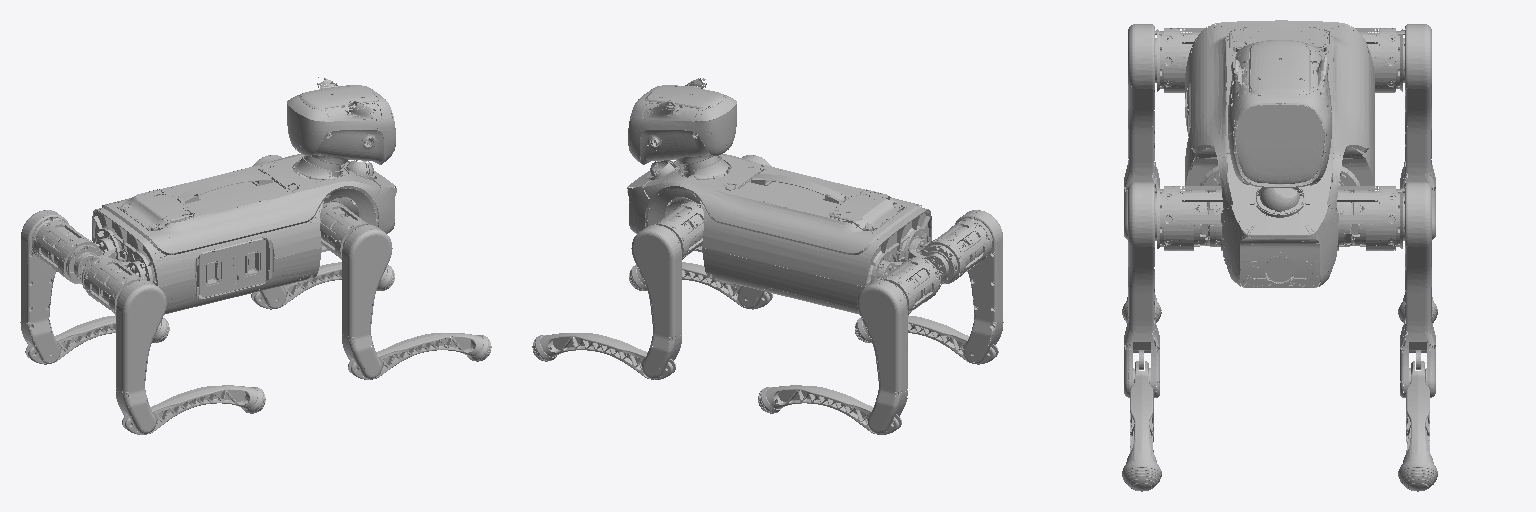
The robot description file, URDF, robot "magicdog_p3_v1":
<?xml version="1.0" encoding="utf-8"?>
<robot name="magicdog_p3_v1">
  <mujoco>
    <compiler
      meshdir="package://meshes/magicdog_p3/"
      balanceinertia="false"
      discardvisual="false"
      fusestatic="false"
    />
  </mujoco>

  <link name="world"/>
  <joint name="floating_base" type="floating">
    <parent link="world"/>
    <child link="base"/>  
    <origin xyz="0 0 0" rpy="0 0 0"/>
  </joint>

  <link name="base">
    <inertial>
      <origin xyz="0.02728597 -0.00552411 0.01123214" rpy="0 0 0"/>
      <mass value="8.69104947"/>
      <inertia ixx="0.03661124" ixy="-0.00193445" ixz="-0.00639821" iyy="0.12827627" iyz="-0.00060377" izz="0.14033591"/>
    </inertial>
    <visual>
      <origin xyz="0 0 0" rpy="0 0 0"/>
      <geometry>
        <mesh filename="package://meshes/magicdog_p3/base_link.STL"/>
      </geometry>
      <material name="">
        <color rgba="0.75294 0.75294 0.75294 1"/>
      </material>
    </visual>
    <collision name="base0">
      <origin rpy="0 0 0" xyz="0 0 0"/>
      <geometry>
        <box size="0.327 0.194 0.114"/>
      </geometry>
    </collision>
    <collision name="base1">
      <origin rpy="0 0 0" xyz="0.285 0 0.01"/>
      <geometry>
        <box size="0.07 0.1 0.1"/>
      </geometry>
    </collision>
  </link>


  <joint name="head_joint_fixed" type="fixed" dont_collapse="true">
    <origin xyz="0.20614 0 0.071975" rpy="0 0 0"/>
    <parent link="base" />
    <child link="head"/>
    <axis xyz="0.34214 -0.00031127 0.93965"/>
    <!-- <limit lower="-1.0472" upper="1.0472" effort="3.2" velocity="100." /> -->
  </joint>
  <link name="head">
    <inertial>
      <origin xyz="0.039579 -0.00010694 0.06137" rpy="0 0 0"/>
      <mass value="1.0054"/>
      <inertia ixx="0.0022155" ixy="-2.89e-06" ixz="-0.00012798" iyy="0.0032796" iyz="-1.45e-06" izz="0.0028588"/>
    </inertial>
    <visual>
      <origin xyz="0 0 0" rpy="0 0 0"/>
      <geometry>
        <mesh filename="package://meshes/magicdog_p3/HEAD.STL"/>
      </geometry>
      <material name="">
        <color rgba="0.75294 0.75294 0.75294 1"/>
      </material>
    </visual>
    <collision>
      <origin xyz="0.04 0 0.08" rpy="0 0 0"/>
      <geometry>
        <box size="0.15 0.1 0.1"/>
      </geometry>
    </collision>
  </link>


  <joint name="FL_hip_joint" type="revolute">
    <origin xyz="0.20675 0.05 0" rpy="0 0 0"/>
    <parent link="base"/>
    <child link="FL_hip"/>
    <axis xyz="1 0 0"/>
    <limit lower="-0.7854" upper="0.6457" effort="80." velocity="16."/>
  </joint>
  <link name="FL_hip">
    <inertial>
      <origin xyz="-0.03074212 -0.01377093 0" rpy="0 0 0"/>
      <mass value="0.335687565"/>
      <inertia ixx="0.00013714" ixy="0.00012177" ixz="0.0" iyy="0.00032881" iyz="0.0" izz="0.00037986"/>
    </inertial>
    <visual>
      <origin xyz="0 0 0" rpy="0 0 0"/>
      <geometry>
        <mesh filename="package://meshes/magicdog_p3/FL_hip.STL"/>
      </geometry>
      <material name="">
        <color rgba="0.75294 0.75294 0.75294 1"/>
      </material>
    </visual>
    <collision>
      <origin rpy="1.5707963267948966 0 0" xyz="0 0.04 0"/>
      <geometry>
        <cylinder length="0.15" radius="0.03"/>
      </geometry>
    </collision>
  </link>

  <joint name="FL_thigh_joint" type="revolute">
    <origin xyz="0 0.10305 0" rpy="0 0 0"/>
    <parent link="FL_hip"/>
    <child link="FL_thigh"/>
    <axis xyz="0 1 0"/>
    <limit lower="-1.9179" upper="2.9757" effort="80." velocity="16."/>
  </joint>
  <link name="FL_thigh">
    <inertial>
      <origin xyz="-0.00254677 -0.04871208 -0.02047923" rpy="0 0 0"/>
      <mass value="1.6574905"/>
      <inertia ixx="0.00753224" ixy="0.00018093" ixz="-0.0003302" iyy="0.00483647" iyz="0.00162813" izz="0.00335732"/>
    </inertial>
    <visual>
      <origin xyz="0 0 0" rpy="0 0 0"/>
      <geometry>
        <mesh filename="package://meshes/magicdog_p3/FL_thigh.STL"/>
      </geometry>
      <material name="">
        <color rgba="0.75294 0.75294 0.75294 1"/>
      </material>
    </visual>
    <collision>
      <origin rpy="0 0 0" xyz="-0.018 0 -0.1"/>
      <geometry>
        <box size="0.04 0.0285 0.1"/>
      </geometry>
    </collision>
  </link>
  
  <joint name="FL_calf_joint" type="revolute">
    <origin xyz="0 0 -0.2" rpy="0 0.025907 0"/>
    <parent link="FL_thigh"/>
    <child link="FL_calf"/>
    <axis xyz="0 1 0"/>
    <limit lower="-2.526" upper="-0.525" effort="80." velocity="16."/>
  </joint>
  <link name="FL_calf">
    <inertial>
      <origin xyz="0.00472151 0.0 -0.08459506" rpy="0 0 0"/>
      <mass value="0.19709147"/>
      <inertia ixx="0.00134914" ixy="0.0" ixz="2.072e-05" iyy="0.00136656" iyz="0.0" izz="4.449e-05"/>
    </inertial>
    <visual>
      <origin xyz="0 0 0" rpy="0 0 0"/>
      <geometry>
        <mesh filename="package://meshes/magicdog_p3/FL_calf.STL"/>
      </geometry>
      <material name="">
        <color rgba="0.75294 0.75294 0.75294 1"/>
      </material>
    </visual>
    <collision name="FL_calf_collsion0">
      <origin rpy="1.5707963267948966 0 0" xyz="0 0 0"/>
      <geometry>
        <cylinder length="0.028" radius="0.024"/>
      </geometry>
    </collision>
    <collision name="FL_calf_collsion1">
      <origin rpy="0 1.419 0" xyz="0.01504 0 -0.064"/>
      <geometry>
        <box size="0.08 0.028 0.022"/>
      </geometry>
    </collision>
    <collision name="FL_calf_collsion2">
      <origin rpy="0 1.593 0" xyz="0.02129 0 -0.12676"/>
      <geometry>
        <box size="0.038 0.028 0.022"/>
      </geometry>
    </collision>
    <collision name="FL_calf_collsion3">
      <origin rpy="0 1.768 0" xyz="0.0177 0 -0.164"/>
      <geometry>
        <box size="0.030 0.028 0.022"/>
      </geometry>
    </collision>
  </link>
  
  <joint name="FL_foot_joint_fixed" type="fixed" dont_collapse="true">
    <origin xyz="0 0. -0.2" rpy="0 0 0"/>
    <parent link="FL_calf"/>
    <child link="FL_foot"/>
  </joint>
  <link name="FL_foot">
    <inertial>
      <mass value="0.01"/>
      <inertia ixx="1.6e-06" ixy="0.0" ixz="0.0" iyy="1.6e-06" iyz="0.0" izz="1.6e-06"/>
    </inertial>
    <visual>
      <origin xyz="0 0 0" rpy="0 0 0"/>
      <geometry>
        <mesh filename="package://meshes/magicdog_p3/FL_foot.STL"/>
      </geometry>
      <material name="">
        <color rgba="0.75294 0.75294 0.75294 1"/>
      </material>
    </visual>
    <collision>
      <origin xyz="0 0 0" rpy="0 0 0"/>
      <geometry>
        <sphere radius="0.02"/>
      </geometry>
    </collision>
  </link>

  
  <joint name="RL_hip_joint" type="revolute">
    <origin xyz="-0.20675 0.05 0" rpy="0.0 0.0 0.0"/>
    <parent link="base"/>
    <child link="RL_hip"/>
    <axis xyz="1 0 0"/>
    <limit lower="-0.7854" upper="0.6457" effort="80." velocity="16."/>
  </joint>
  <link name="RL_hip">
    <inertial>
      <origin xyz="0.03076379 -0.01373861 0" rpy="0 0 0"/>
      <mass value="0.335687565"/>
      <inertia ixx="0.00013292" ixy="-0.00012274" ixz="0.0" iyy="0.00032746" iyz="0.0" izz="0.00038027"/>
    </inertial>
    <visual>
      <origin xyz="0 0 0" rpy="0 0 0"/>
      <geometry>
        <mesh filename="package://meshes/magicdog_p3/RL_hip.STL"/>
      </geometry>
      <material name="">
        <color rgba="0.75294 0.75294 0.75294 1"/>
      </material>
    </visual>
    <collision>
      <origin rpy="1.5707963267948966 0 0" xyz="0 0.04 0"/>
      <geometry>
        <cylinder length="0.12" radius="0.03"/>
      </geometry>
    </collision>
  </link>
  
  <joint name="RL_thigh_joint" type="revolute">
    <origin xyz="0 0.10305 0" rpy="0 0 0"/>
    <parent link="RL_hip"/>
    <child link="RL_thigh"/>
    <axis xyz="0 1 0"/>
    <limit lower="-1.9179" upper="2.9757" effort="80." velocity="16."/>
  </joint>
  <link name="RL_thigh">
    <inertial>
      <origin xyz="-0.00254674 -0.04871207 -0.02055977" rpy="0 0 0"/>
      <mass value="1.65749046"/>
      <inertia ixx="0.00752635" ixy="0.00018117" ixz="-0.00033342" iyy="0.00483099" iyz="0.00161685" izz="0.00335774"/>
    </inertial>
    <visual>
      <origin xyz="0 0 0" rpy="0 0 0"/>
      <geometry>
        <mesh filename="package://meshes/magicdog_p3/RL_thigh.STL"/>
      </geometry>
      <material name="">
        <color rgba="0.75294 0.75294 0.75294 1"/>
      </material>
    </visual>
    <collision>
      <origin rpy="0 0 0" xyz="-0.018 0 -0.1"/>
      <geometry>
        <box size="0.04 0.0285 0.1"/>
      </geometry>
    </collision>
  </link>

  <joint name="RL_calf_joint" type="revolute">
    <origin xyz="0.0 0.0 -0.2" rpy="0.0 0.0 0.0"/>
    <parent link="RL_thigh"/>
    <child link="RL_calf"/>
    <axis xyz="0.0 1.0 0.0"/>
    <limit lower="-2.526" upper="-0.525" effort="80." velocity="16."/>
  </joint>
  <link name="RL_calf">
    <inertial>
      <origin xyz="0.00472151 0.0 -0.08459506" rpy="0 0 0"/>
      <mass value="0.19709147"/>
      <inertia ixx="0.00134914" ixy="0.0" ixz="2.072e-05" iyy="0.00136656" iyz="0.0" izz="4.449e-05"/>
    </inertial>
    <visual>
      <origin xyz="0 0 0" rpy="0 0 0"/>
      <geometry>
        <mesh filename="package://meshes/magicdog_p3/RL_calf.STL"/>
      </geometry>
      <material name="">
        <color rgba="0.75294 0.75294 0.75294 1"/>
      </material>
    </visual>
    <collision name="RL_calf_collsion0">
      <origin rpy="1.5707963267948966 0 0" xyz="0 0 0"/>
      <geometry>
        <cylinder length="0.028" radius="0.024"/>
      </geometry>
    </collision>
    <collision name="RL_calf_collsion1">
      <origin rpy="0 1.419 0" xyz="0.01504 0 -0.064"/>
      <geometry>
        <box size="0.08 0.028 0.022"/>
      </geometry>
    </collision>
    <collision name="RL_calf_collsion2">
      <origin rpy="0 1.593 0" xyz="0.02129 0 -0.12676"/>
      <geometry>
        <box size="0.038 0.028 0.022"/>
      </geometry>
    </collision>
    <collision name="RL_calf_collsion3">
      <origin rpy="0 1.768 0" xyz="0.0177 0 -0.164"/>
      <geometry>
        <box size="0.030 0.028 0.022"/>
      </geometry>
    </collision>
  </link>

  <joint name="RL_foot_joint_fixed" type="fixed" dont_collapse="true">
    <origin xyz="0 0. -0.2" rpy="0 0 0"/>
    <parent link="RL_calf"/>
    <child link="RL_foot"/>
  </joint>
  <link name="RL_foot">
    <inertial>
      <mass value="0.01"/>
      <inertia ixx="1.6e-06" ixy="0.0" ixz="0.0" iyy="1.6e-06" iyz="0.0" izz="1.6e-06"/>
    </inertial>
    <visual>
      <origin xyz="0 0 0" rpy="0 0 0"/>
      <geometry>
        <mesh filename="package://meshes/magicdog_p3/RL_foot.STL"/>
      </geometry>
      <material name="">
        <color rgba="0.75294 0.75294 0.75294 1"/>
      </material>
    </visual>
    <collision>
      <origin xyz="0 0 0" rpy="0 0 0"/>
      <geometry>
        <sphere radius="0.02"/>
      </geometry>
    </collision>
  </link>

  <joint name="FR_hip_joint" type="revolute">
    <origin xyz="0.20675 -0.05 0" rpy="0 0 0"/>
    <parent link="base"/>
    <child link="FR_hip"/>
    <axis xyz="1 0 0"/>
    <limit lower="-0.6457" upper="0.7854" effort="80." velocity="16."/>
  </joint>
  <link name="FR_hip">
    <inertial>
      <origin xyz="-0.030742 0.013771 0.0" rpy="0 0 0"/>
      <mass value="0.335687565"/>
      <inertia ixx="0.00013714" ixy="-0.00012177" ixz="0.0" iyy="0.00032881" iyz="0.0" izz="0.00037986"/>
    </inertial>
    <visual>
      <origin xyz="0 0 0" rpy="0 0 0"/>
      <geometry>
        <mesh filename="package://meshes/magicdog_p3/FR_hip.STL"/>
      </geometry>
      <material name="">
        <color rgba="0.75294 0.75294 0.75294 1"/>
      </material>
    </visual>
    <collision>
      <origin rpy="1.5707963267948966 0 0" xyz="0 -0.04 0"/>
      <geometry>
        <cylinder length="0.12" radius="0.03"/>
      </geometry>
    </collision>
  </link>
  
  <joint name="FR_thigh_joint" type="revolute">
    <origin xyz="0 -0.10305 0" rpy="0 0 0"/>
    <parent link="FR_hip"/>
    <child link="FR_thigh"/>
    <axis xyz="0 1 0"/>
    <limit lower="-1.9179" upper="2.9757" effort="80." velocity="16."/>
  </joint>
  <link name="FR_thigh">
    <inertial>
      <origin xyz="-0.0027075 0.04870943 -0.02020099" rpy="0 0 0"/>
      <mass value="1.65749211"/>
      <inertia ixx="0.00782484" ixy="-0.00019458" ixz="-0.00032328" iyy="0.00514024" iyz="-0.00160629" izz="0.00362934"/>
    </inertial>
    <visual>
      <origin xyz="0 0 0" rpy="0 0 0"/>
      <geometry>
        <mesh filename="package://meshes/magicdog_p3/FR_thigh.STL"/>
      </geometry>
      <material name="">
        <color rgba="0.75294 0.75294 0.75294 1"/>
      </material>
    </visual>
    <collision>
      <origin rpy="0 0 0" xyz="-0.018 0 -0.1"/>
      <geometry>
        <box size="0.04 0.0285 0.1"/>
      </geometry>
    </collision>
  </link>
  
  <joint name="FR_calf_joint" type="revolute">
    <origin xyz="0 0 -0.2" rpy="0 0.025907 0"/>
    <parent link="FR_thigh"/>
    <child link="FR_calf"/>
    <axis xyz="0 1 0"/>
    <limit lower="-2.526" upper="-0.525" effort="80." velocity="16."/>
  </joint>
  <link name="FR_calf">
    <inertial>
      <origin xyz="0.00478363 0.0 -0.084643" rpy="0 0 0"/>
      <mass value="0.19708991"/>
      <inertia ixx="0.00135126" ixy="0.0" ixz="2.208e-05" iyy="0.00136857" iyz="0.0" izz="4.438e-05"/>
    </inertial>
    <visual>
      <origin xyz="0 0 0" rpy="0 0 0"/>
      <geometry>
        <mesh filename="package://meshes/magicdog_p3/FR_calf.STL"/>
      </geometry>
      <material name="">
        <color rgba="0.75294 0.75294 0.75294 1"/>
      </material>
    </visual>
    <collision name="FR_calf_collsion0">
      <origin rpy="1.5707963267948966 0 0" xyz="0 0 0"/>
      <geometry>
        <cylinder length="0.028" radius="0.024"/>
      </geometry>
    </collision>
    <collision name="FR_calf_collsion1">
      <origin rpy="0 1.419 0" xyz="0.01504 0 -0.064"/>
      <geometry>
        <box size="0.08 0.028 0.022"/>
      </geometry>
    </collision>
    <collision name="FR_calf_collsion2">
      <origin rpy="0 1.593 0" xyz="0.02129 0 -0.12676"/>
      <geometry>
        <box size="0.038 0.028 0.022"/>
      </geometry>
    </collision>
    <collision name="FR_calf_collsion3">
      <origin rpy="0 1.768 0" xyz="0.0177 0 -0.164"/>
      <geometry>
        <box size="0.030 0.028 0.022"/>
      </geometry>
    </collision>
  </link>
  
  <joint name="FR_foot_joint_fixed" type="fixed" dont_collapse="true">
    <origin xyz="0 0. -0.2" rpy="0 0 0"/>
    <parent link="FR_calf"/>
    <child link="FR_foot"/>
  </joint>
  <link name="FR_foot">
    <inertial>
      <mass value="0.01"/>
      <inertia ixx="1.6e-06" ixy="0.0" ixz="0.0" iyy="1.6e-06" iyz="0.0" izz="1.6e-06"/>
    </inertial>
    <visual>
      <origin xyz="0 0 0" rpy="0 0 0"/>
      <geometry>
        <mesh filename="package://meshes/magicdog_p3/FR_foot.STL"/>
      </geometry>
      <material name="">
        <color rgba="0.75294 0.75294 0.75294 1"/>
      </material>
    </visual>
    <collision>
      <origin xyz="0 0 0" rpy="0 0 0"/>
      <geometry>
        <sphere radius="0.02"/>
      </geometry>
    </collision>
  </link>

  
  <joint name="RR_hip_joint" type="revolute">
    <origin xyz="-0.20675 -0.05 0" rpy="0 0 0"/>
    <parent link="base"/>
    <child link="RR_hip" />
    <axis xyz="1 0 0"/>
    <limit lower="-0.6457" upper="0.7854" effort="80." velocity="16."/>
  </joint>
  <link name="RR_hip">
    <inertial>
      <origin xyz="0.030742 0.013771 0.0" rpy="0 0 0"/>
      <mass value="0.335687565"/>
      <inertia ixx="0.00013714" ixy="0.00012177" ixz="0.0" iyy="0.00032881" iyz="0.0" izz="0.00037986"/>
    </inertial>
    <visual>
      <origin xyz="0 0 0" rpy="0 0 0"/>
      <geometry>
        <mesh filename="package://meshes/magicdog_p3/RR_hip.STL"/>
      </geometry>
      <material name="">
        <color rgba="0.75294 0.75294 0.75294 1"/>
      </material>
    </visual>
    <collision>
      <origin rpy="1.5707963267948966 0 0" xyz="0 -0.04 0"/>
      <geometry>
        <cylinder length="0.12" radius="0.03"/>
      </geometry>
    </collision>
  </link>
  
  <joint name="RR_thigh_joint" type="revolute">
    <origin xyz="0 -0.10305 0" rpy="0 0 0"/>
    <parent link="RR_hip"/>
    <child link="RR_thigh"/>
    <axis xyz="0 1 0" />
    <limit lower="-1.9179" upper="2.9757" effort="80." velocity="16."/>
  </joint>
  <link name="RR_thigh">
    <inertial>
      <origin xyz="-0.00270747 0.04870943 -0.02028153" rpy="0 0 0"/>
      <mass value="1.65749207"/>
      <inertia ixx="0.00781902" ixy="-0.00019482" ixz="-0.00032578" iyy="0.00513484" iyz="-0.00159552" izz="0.00362976"/>
    </inertial>
    <visual>
      <origin xyz="0 0 0" rpy="0 0 0"/>
      <geometry>
        <mesh filename="package://meshes/magicdog_p3/RR_thigh.STL"/>
      </geometry>
      <material name="">
        <color rgba="0.75294 0.75294 0.75294 1"/>
      </material>
    </visual>
    <collision>
      <origin rpy="0 0 0" xyz="-0.018 0 -0.1"/>
      <geometry>
        <box size="0.04 0.0285 0.1"/>
      </geometry>
    </collision>
  </link>
  
  <joint name="RR_calf_joint" type="revolute">
    <origin xyz="0 0 -0.2" rpy="0 0 0"/>
    <parent link="RR_thigh"/>
    <child link="RR_calf"/>
    <axis xyz="0 1 0"/>
    <limit lower="-2.526" upper="-0.525" effort="80." velocity="16."/>
  </joint>
  <link name="RR_calf">
    <inertial>
      <origin xyz="0.00478363 0.0 -0.084643" rpy="0 0 0"/>
      <mass value="0.19708991"/>
      <inertia ixx="0.00135126" ixy="0.0" ixz="2.208e-05" iyy="0.00136857" iyz="0.0" izz="4.438e-05"/>
    </inertial>
    <visual>
      <origin xyz="0 0 0" rpy="0 0 0"/>
      <geometry>
        <mesh filename="package://meshes/magicdog_p3/RR_calf.STL"/>
      </geometry>
      <material name="">
        <color rgba="0.75294 0.75294 0.75294 1"/>
      </material>
    </visual>
    <collision name="RR_calf_collsion0">
      <origin rpy="1.5707963267948966 0 0" xyz="0 0 0"/>
      <geometry>
        <cylinder length="0.028" radius="0.024"/>
      </geometry>
    </collision>
    <collision name="RR_calf_collsion1">
      <origin rpy="0 1.419 0" xyz="0.01504 0 -0.064"/>
      <geometry>
        <box size="0.08 0.028 0.022"/>
      </geometry>
    </collision>
    <collision name="RR_calf_collsion2">
      <origin rpy="0 1.593 0" xyz="0.02129 0 -0.12676"/>
      <geometry>
        <box size="0.038 0.028 0.022"/>
      </geometry>
    </collision>
    <collision name="RR_calf_collsion3">
      <origin rpy="0 1.768 0" xyz="0.0177 0 -0.164"/>
      <geometry>
        <box size="0.030 0.028 0.022"/>
      </geometry>
    </collision>
  </link>
  
  <joint name="RR_foot_joint_fixed" type="fixed" dont_collapse="true">
    <origin xyz="0 0. -0.2" rpy="0 0 0"/>
    <parent link="RR_calf"/>
    <child link="RR_foot"/>
  </joint>
  <link name="RR_foot">
    <inertial>
      <mass value="0.01"/>
      <inertia ixx="1.6e-06" ixy="0.0" ixz="0.0" iyy="1.6e-06" iyz="0.0" izz="1.6e-06"/>
    </inertial>
    <visual>
      <origin xyz="0 0 0" rpy="0 0 0"/>
      <geometry>
        <mesh filename="package://meshes/magicdog_p3/RR_foot.STL"/>
      </geometry>
      <material name="">
        <color rgba="0.75294 0.75294 0.75294 1"/>
      </material>
    </visual>
    <collision>
      <origin xyz="0 0 0" rpy="0 0 0"/>
      <geometry>
        <sphere radius="0.02"/>
      </geometry>
    </collision>
  </link>  
</robot>

--- Facts derived from the render (not from the file) ---
The picture shows the robot from 3 angles, left to right: view 1: azimuth 30°, elevation 25°; view 2: azimuth 150°, elevation 25°; view 3: azimuth 270°, elevation 25°; orthographic projection.
Model magicdog_p3_v1 with 19 links and 18 joints (12 revolute, 5 fixed, 1 floating), rooted at world, posed joints at zero except 4 at the middle of their limits (FL_calf_joint = -1.53, RL_calf_joint = -1.53, FR_calf_joint = -1.53, RR_calf_joint = -1.53).
Links seen in each view (by area): view 1: base, head, RR_thigh, FR_thigh, RL_thigh, RR_calf, FR_calf, RL_calf, FL_calf, RL_hip, FL_thigh; view 2: base, head, RL_thigh, FL_thigh, RR_thigh, RL_calf, FL_calf, RR_calf, FR_calf, RR_hip, FR_thigh; view 3: base, head, FL_thigh, FR_thigh, RL_thigh, RR_thigh, FL_calf, FR_calf, FL_foot, FR_foot.
Link boxes in pixels (x1,y1,x2,y2): base: (92,154,396,314); head: (287,77,395,168); RR_thigh: (82,257,166,433); FR_thigh: (320,202,392,378); RL_thigh: (20,210,102,363); RR_calf: (122,385,265,434); FR_calf: (348,333,490,379); RL_calf: (25,315,165,364); FL_calf: (251,262,392,309); RL_hip: (74,237,116,278); FL_thigh: (252,155,326,308); base: (627,154,931,314); head: (628,78,736,168); RL_thigh: (857,257,941,433); FL_thigh: (631,202,703,378); RR_thigh: (921,210,1003,363); RL_calf: (758,385,901,434); FL_calf: (533,333,675,379); RR_calf: (855,315,998,364); FR_calf: (631,262,772,309); RR_hip: (907,236,949,279); FR_thigh: (697,155,771,308); base: (1185,20,1374,287); head: (1228,40,1331,187); FL_thigh: (1328,182,1435,397); FR_thigh: (1124,182,1231,397); RL_thigh: (1355,24,1435,239); RR_thigh: (1124,24,1204,239); FL_calf: (1403,361,1437,486); FR_calf: (1122,361,1156,486); FL_foot: (1398,460,1437,491); FR_foot: (1122,460,1161,491).
Bounding box of the posed robot: 0.677 × 0.3502 × 0.4531 m (x, y, z).
Meshes: 18 distinct files referenced, 17 mesh visuals loaded (17 binary STL); not drawn: 1 (reference not matched to a file when rendering).
